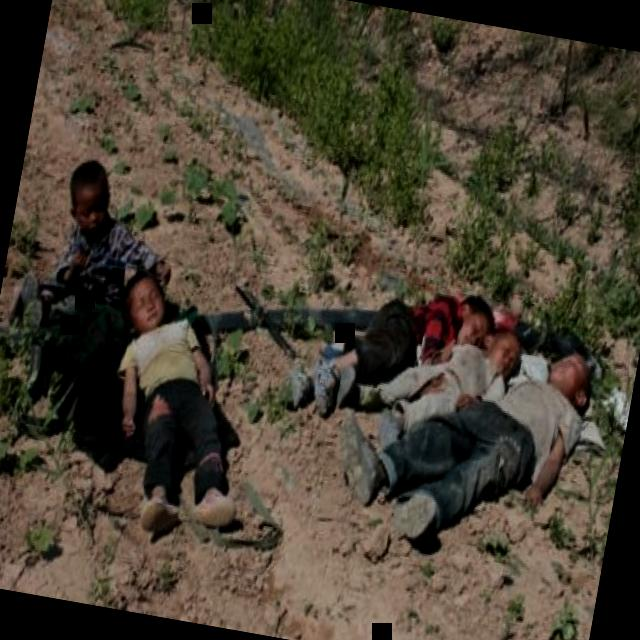Fall-Detected: (281, 248, 507, 443)
